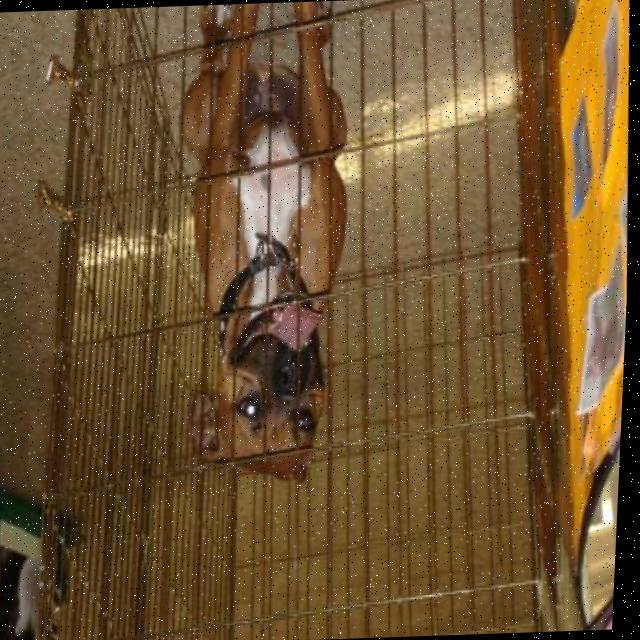dogs: (163, 0, 369, 488)
